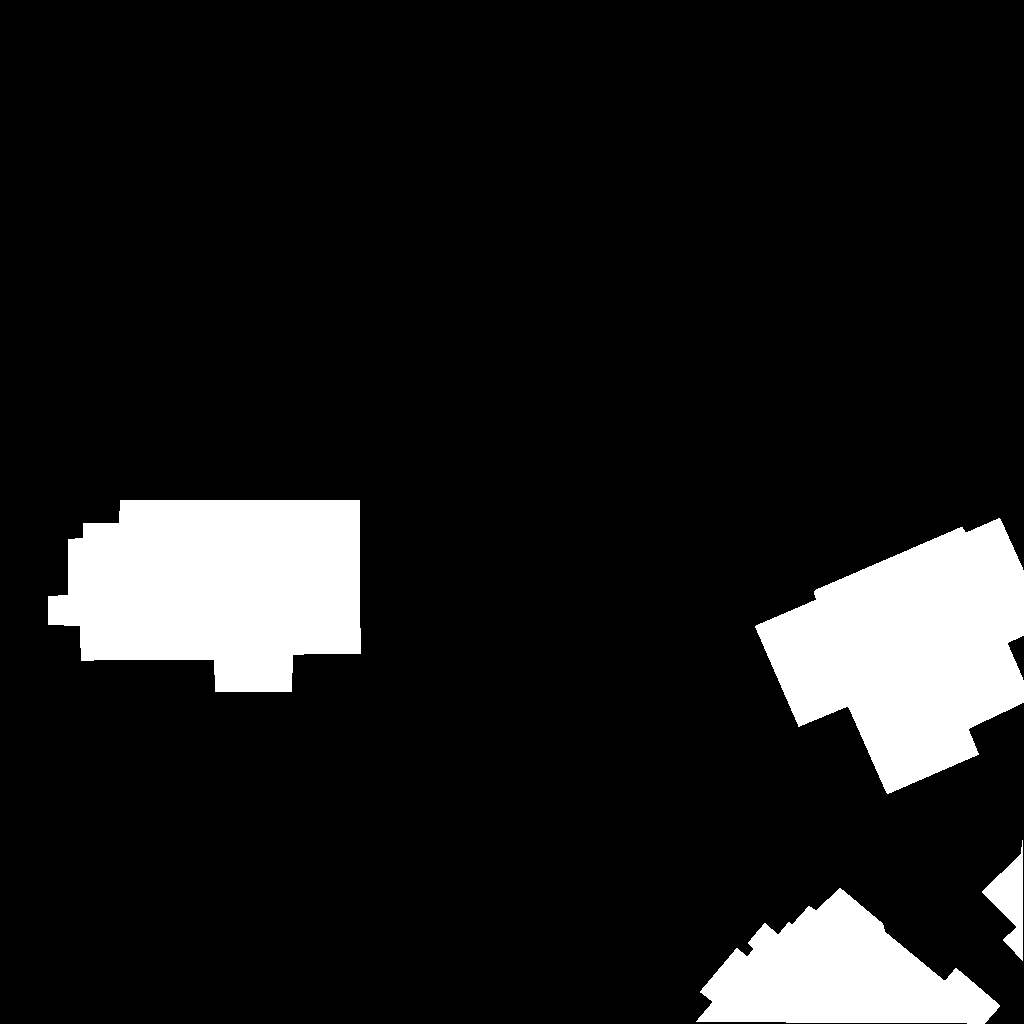building: (755, 518, 1024, 795), (48, 500, 361, 692), (696, 888, 1001, 1024), (982, 837, 1024, 962)
